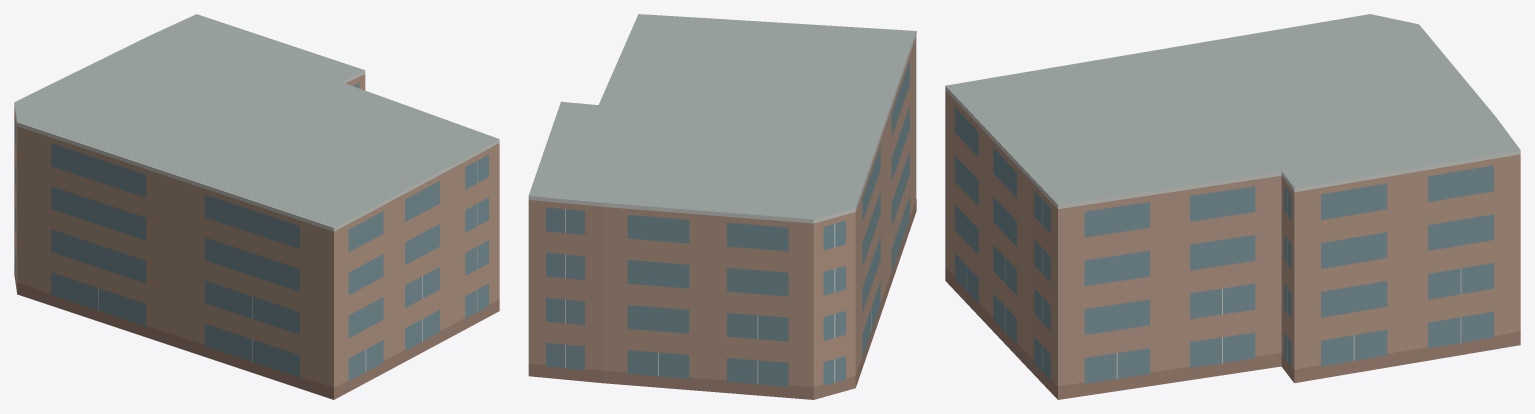
The model's file is survey-upis-32853100.glb.
The picture shows the model from 3 angles, left to right: view 1: azimuth 30°, elevation 25°; view 2: azimuth 150°, elevation 25°; view 3: azimuth 270°, elevation 25°; orthographic projection. The views are drawn at different scales.
Visible parts, largest first — view 1: survey-upis-32853100.tmp; view 2: survey-upis-32853100.tmp; view 3: survey-upis-32853100.tmp.
Boxes of the visible parts, x1,y1,x2,y2 form: survey-upis-32853100.tmp: (14,14,499,399); survey-upis-32853100.tmp: (528,14,916,399); survey-upis-32853100.tmp: (945,14,1520,399).
Bounding box in the file's own units: 23.2 × 11.05 × 29.55.
